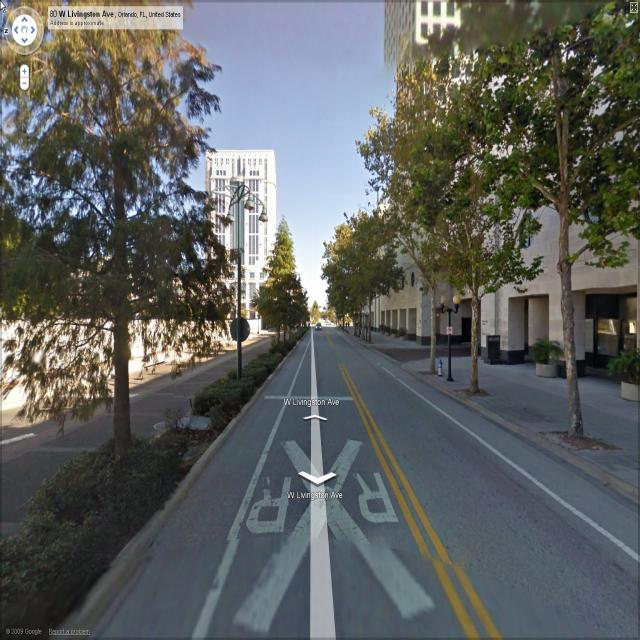b_2: (307, 9, 515, 371), (186, 130, 294, 349)
